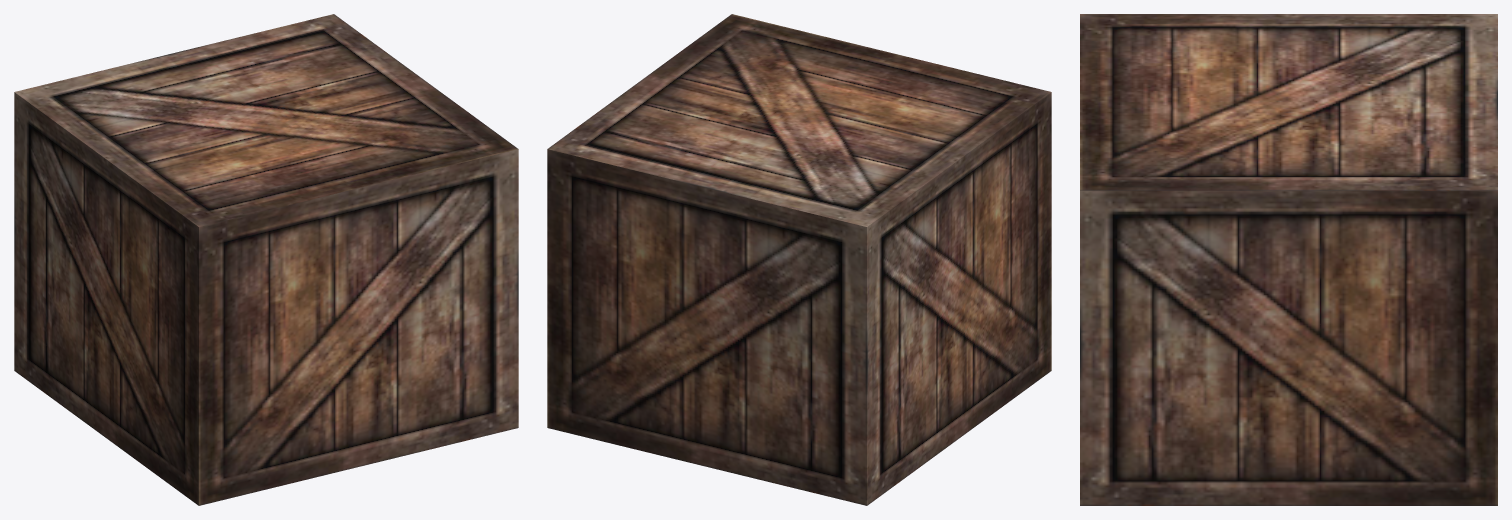
Rendered from WoodenBoxB.fbx.
3 views of the same model, side by side, from view 1: azimuth 30°, elevation 25°; view 2: azimuth 150°, elevation 25°; view 3: azimuth 270°, elevation 25° (orthographic). The views are drawn at different scales.
Visible parts, largest first — view 1: WoodenBoxB; view 2: WoodenBoxB; view 3: WoodenBoxB.
Part boxes in pixels (x1=…): WoodenBoxB: x1=14, y1=14, x2=518, y2=505; WoodenBoxB: x1=547, y1=14, x2=1051, y2=505; WoodenBoxB: x1=1080, y1=14, x2=1497, y2=505.
Size of the model in its own units: 91.44 by 76.2 by 91.44.
